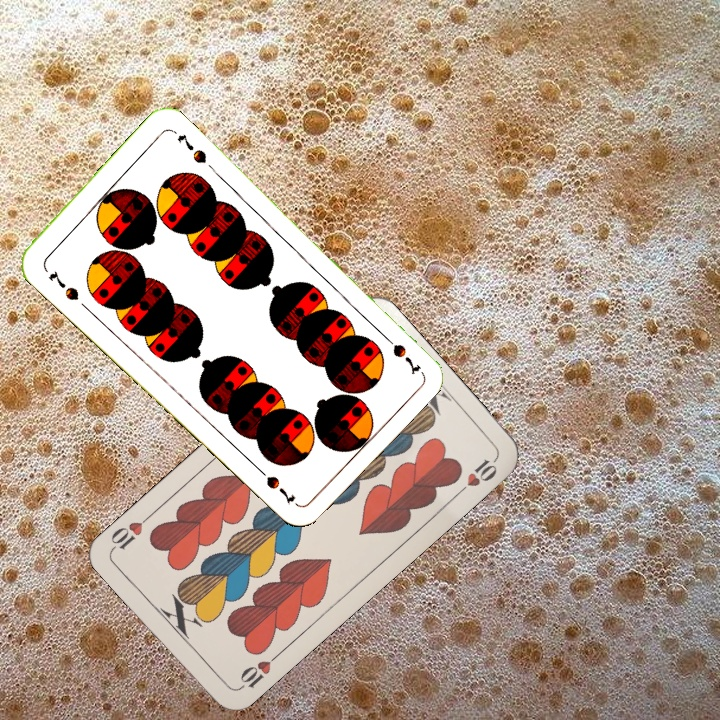H10: (234, 649, 282, 693)
S7: (376, 328, 423, 376), (45, 266, 82, 304)
